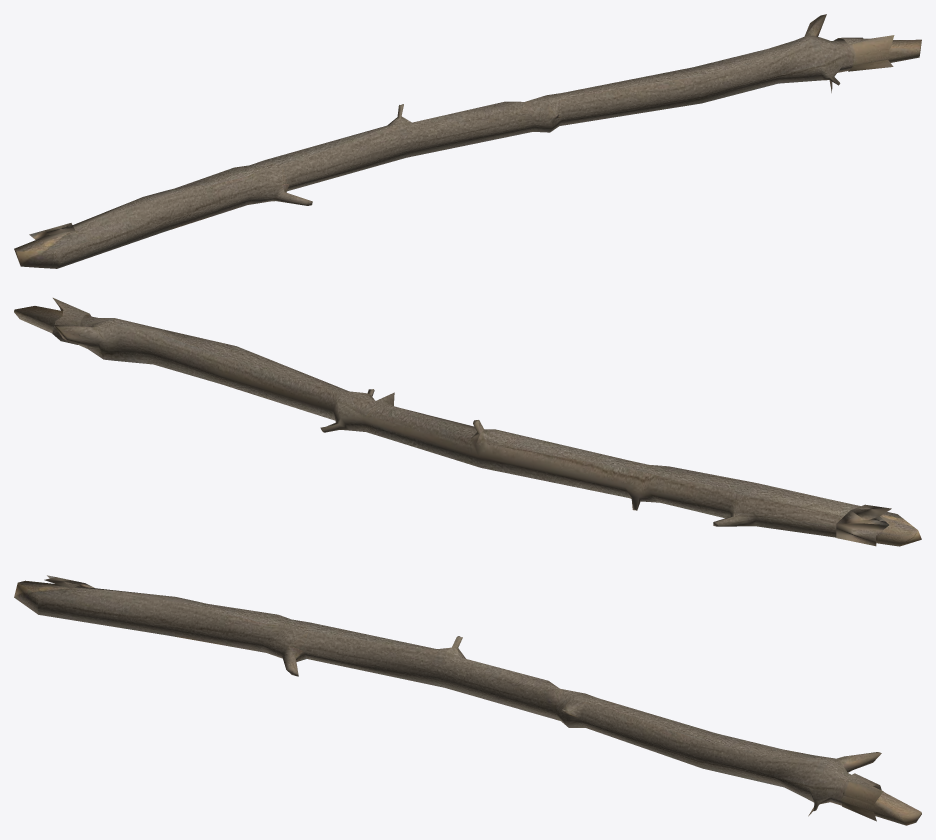
File: club_ground_d.glb
3 renders of one model, top to bottom at view 1: azimuth 30°, elevation 25°; view 2: azimuth 150°, elevation 25°; view 3: azimuth 330°, elevation 25°, orthographic.
Bounding box in the file's own units: 0.5357 × 0.0306 × 0.0517.
1 material, 1 textured.
